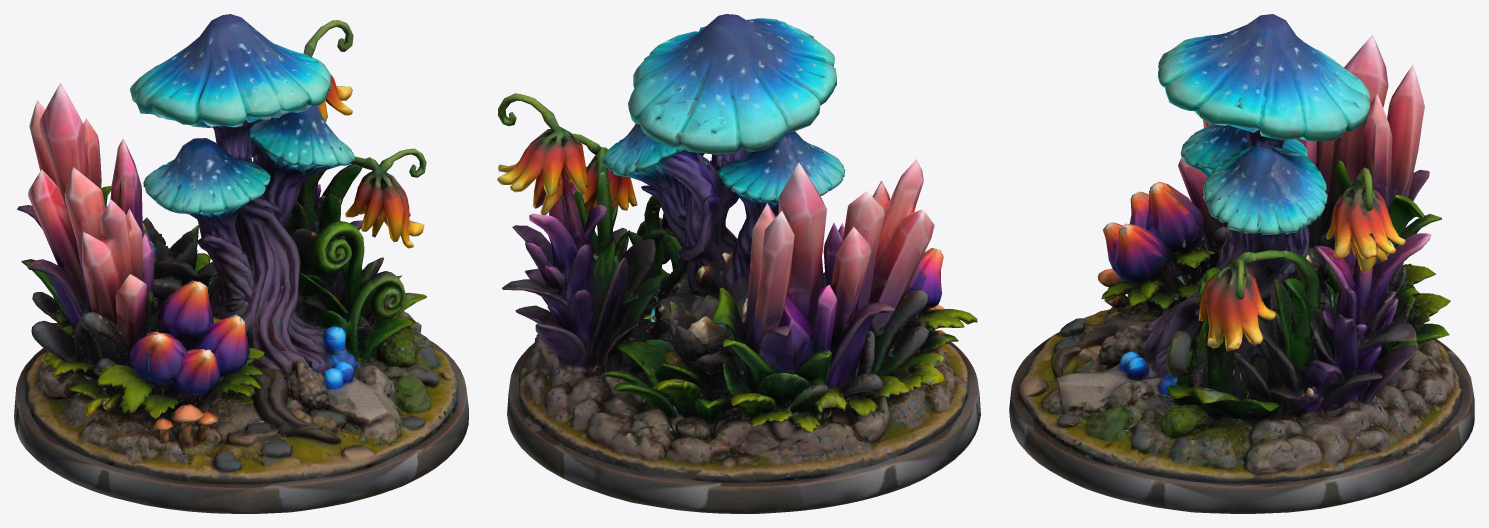
The model's file is Bioluminescent_Mushro.glb.
3 renders of one model, left to right at view 1: azimuth 30°, elevation 25°; view 2: azimuth 150°, elevation 25°; view 3: azimuth 270°, elevation 25°, orthographic. The views are drawn at different scales.
Visible parts, largest first — view 1: Bioluminescent_Mushro; view 2: Bioluminescent_Mushro; view 3: Bioluminescent_Mushro.
Part boxes in pixels (box(x1,y1,x2,y2)): Bioluminescent_Mushro: box(14, 14, 468, 513); Bioluminescent_Mushro: box(497, 14, 980, 513); Bioluminescent_Mushro: box(1009, 14, 1474, 513).
Size of the model in its own units: 1.9 by 1.8 by 1.9.
Materials: 1 (1 with a texture image).
